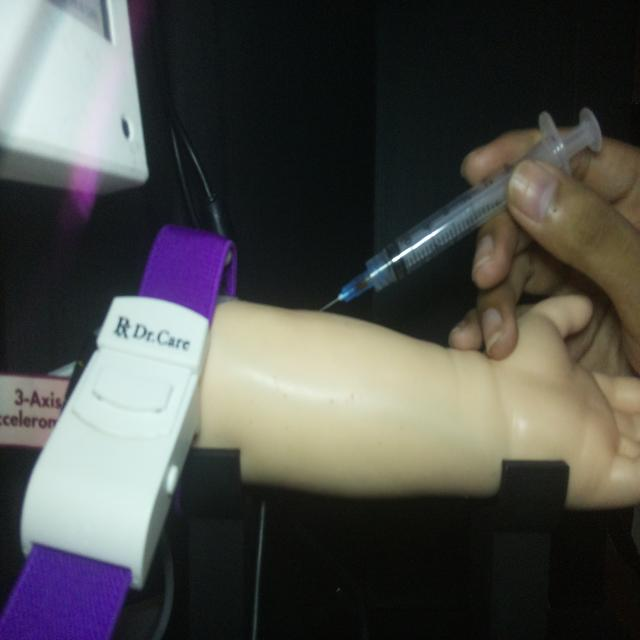24 degrees: (318, 104, 604, 313)
